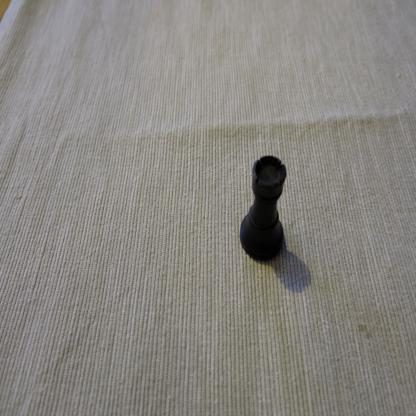black-rook: (239, 155, 287, 262)
